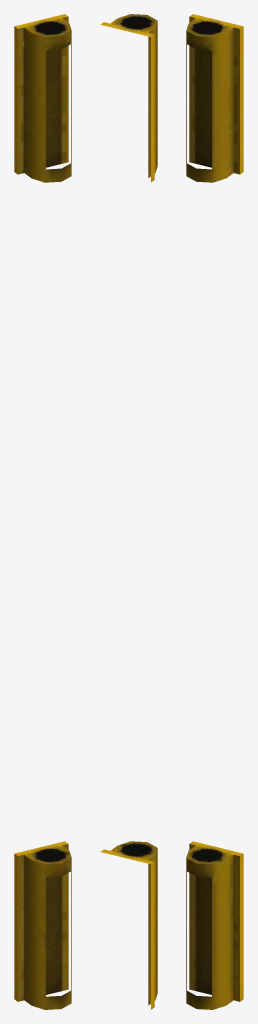
3 views of the same model, side by side, from view 1: azimuth 30°, elevation 25°; view 2: azimuth 150°, elevation 25°; view 3: azimuth 330°, elevation 25° (orthographic).
Parts seen in each view (by area): view 1: body0_model0_lod0_mesh0; view 2: body0_model0_lod0_mesh0; view 3: body0_model0_lod0_mesh0.
Part boxes in pixels (bbox=[...]): body0_model0_lod0_mesh0: bbox=[14, 14, 71, 1009]; body0_model0_lod0_mesh0: bbox=[100, 14, 157, 1009]; body0_model0_lod0_mesh0: bbox=[186, 14, 243, 1009].
Size of the model in its own units: 8 by 147 by 5.99.
1 material, 1 textured.
